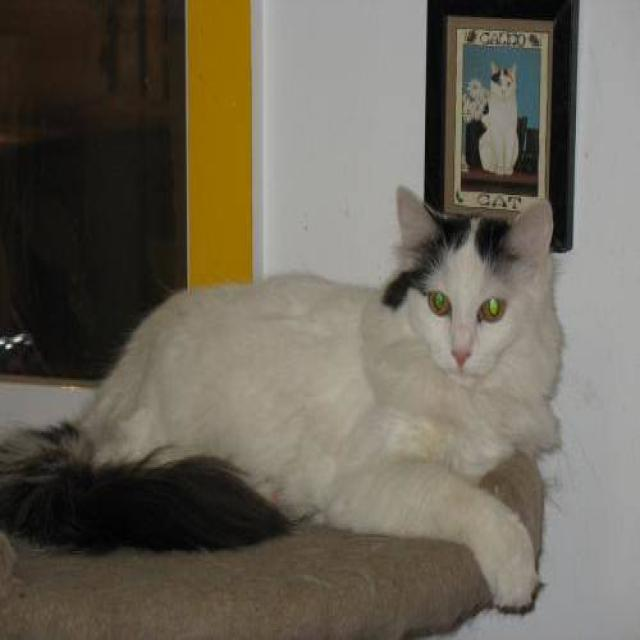cat: (0, 183, 566, 614)
